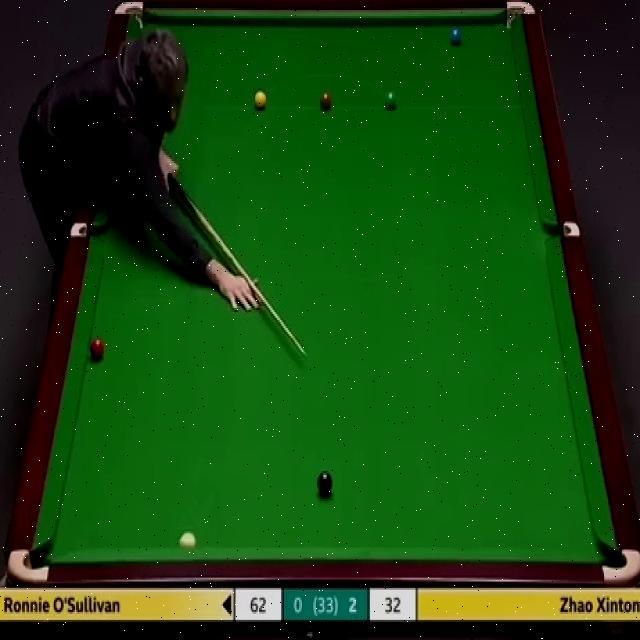black-ball: (316, 470, 333, 496)
blue-ball: (449, 27, 462, 44)
brown-ball: (318, 89, 333, 110)
green-ball: (382, 91, 398, 111)
red-ball: (88, 338, 105, 361)
white-ball: (178, 528, 196, 550)
yellow-ball: (253, 88, 267, 110)
